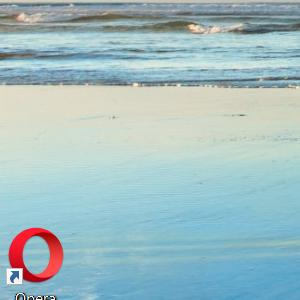opera: (6, 227, 64, 285)
